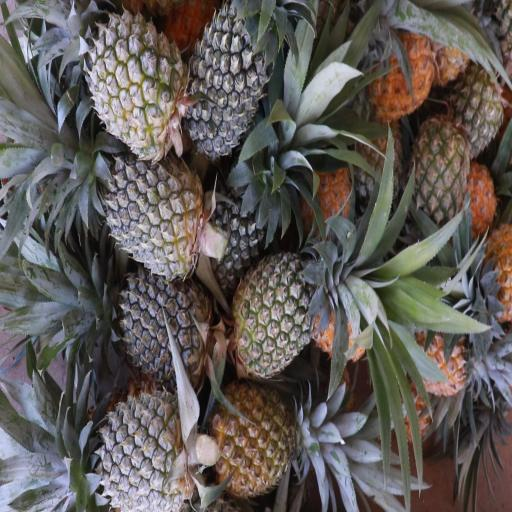------------------------------: (93, 8, 180, 152), (234, 253, 332, 372), (206, 379, 298, 490), (407, 125, 471, 229)
Pineapple - v8 v1: (370, 34, 434, 118)
